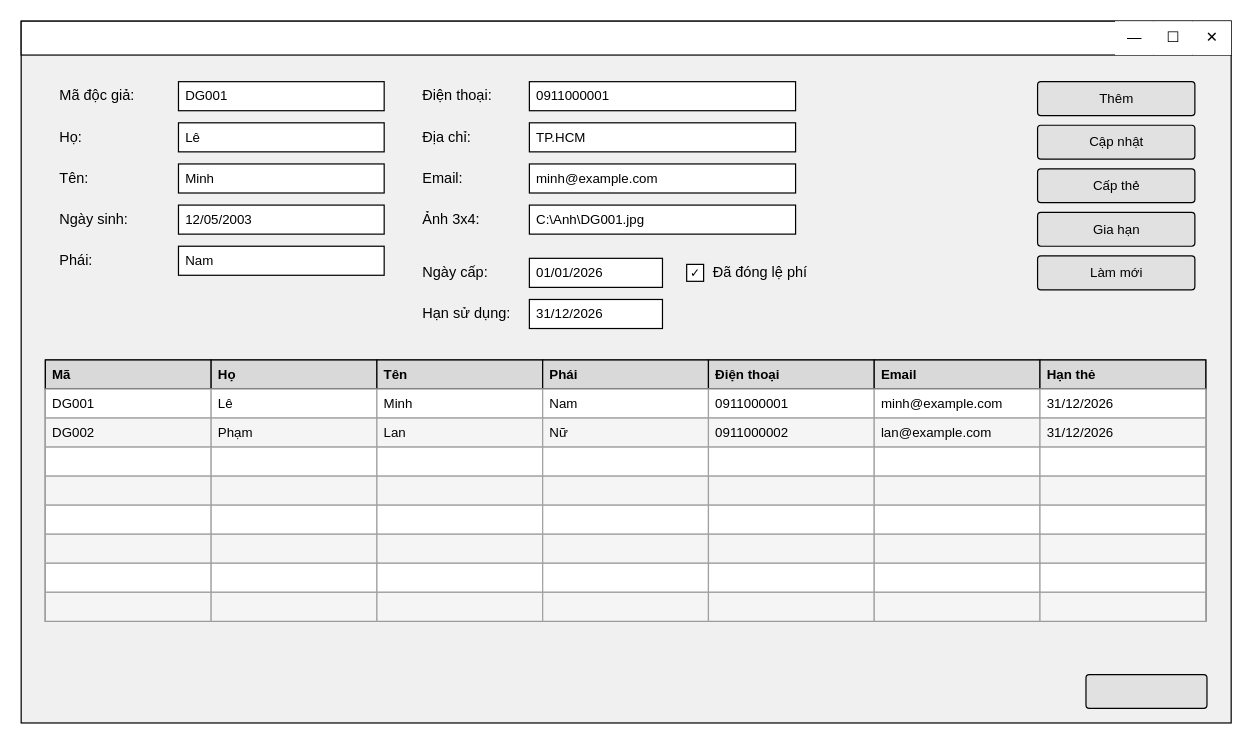
Image size: 1252x744. Some labels were removed from this diagram. Here are the shapes that lost their labels. From the top down, the box of each, then its label:
(20, 20, 1231, 55): Độc giả và thẻ thư viện
(1085, 673, 1207, 708): Đóng
